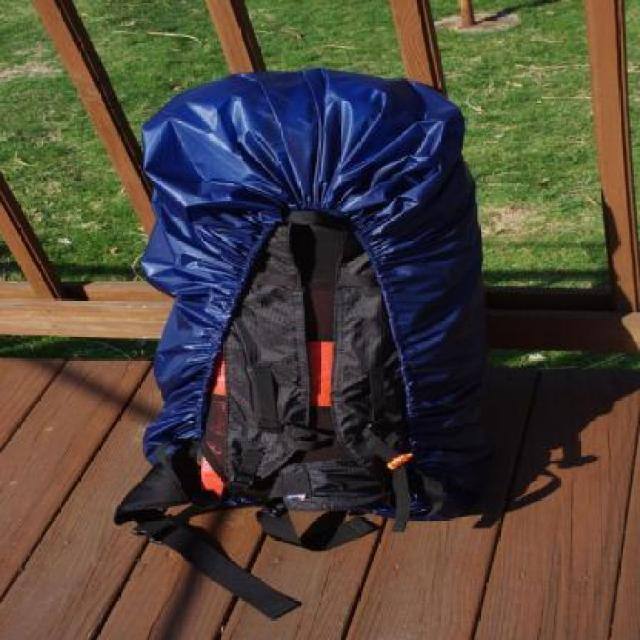backpack: (108, 59, 506, 558)
